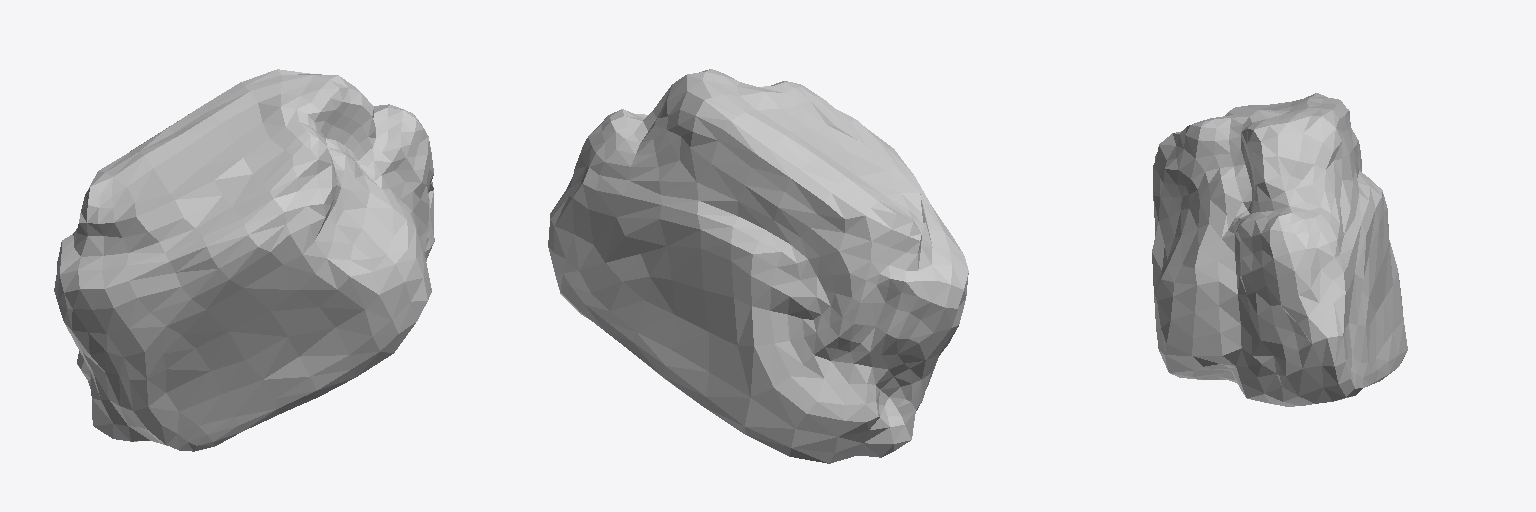
Rendered from RockNew.obj.
3 renders of one model, left to right at view 1: azimuth 30°, elevation 25°; view 2: azimuth 150°, elevation 25°; view 3: azimuth 270°, elevation 25°, orthographic.
Visible parts, largest first — view 1: Rock_1; view 2: Rock_1; view 3: Rock_1.
Boxes of the visible parts, <box> form: Rock_1: <box>54,69,434,451</box>; Rock_1: <box>548,69,968,463</box>; Rock_1: <box>1152,93,1407,406</box>.
Size of the model in its own units: 39.38 by 31.7 by 22.49.